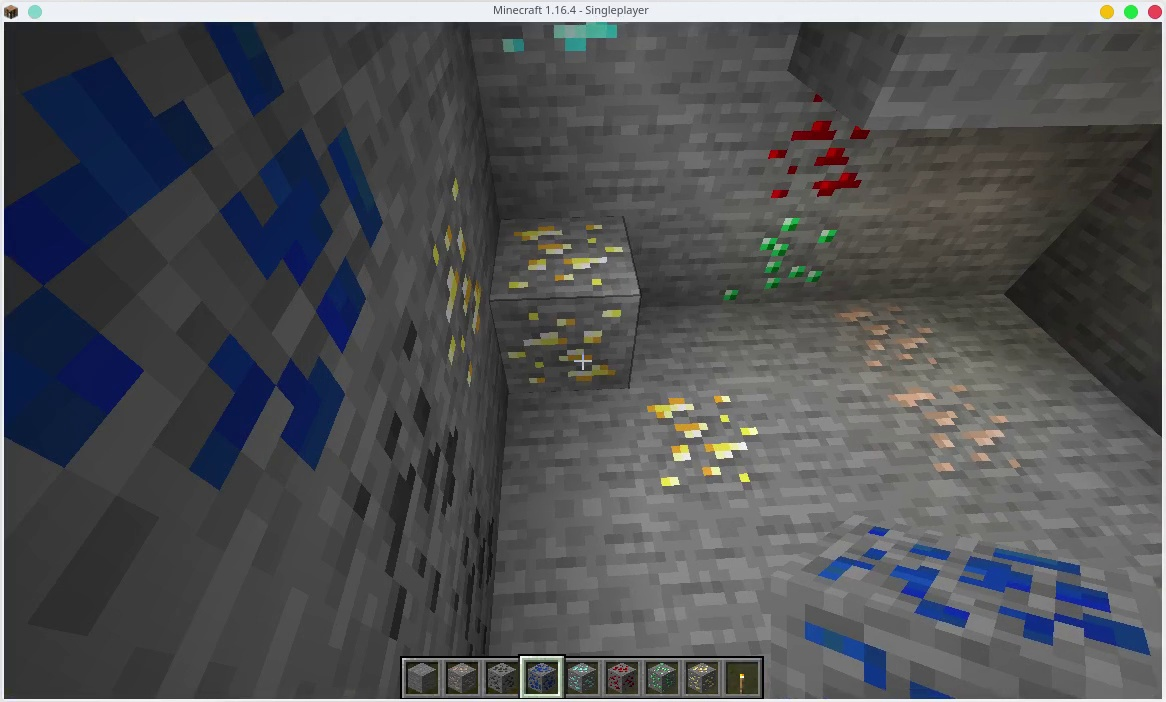gold: (502, 224, 648, 402), (648, 396, 776, 505), (434, 190, 494, 372), (686, 658, 718, 694)
